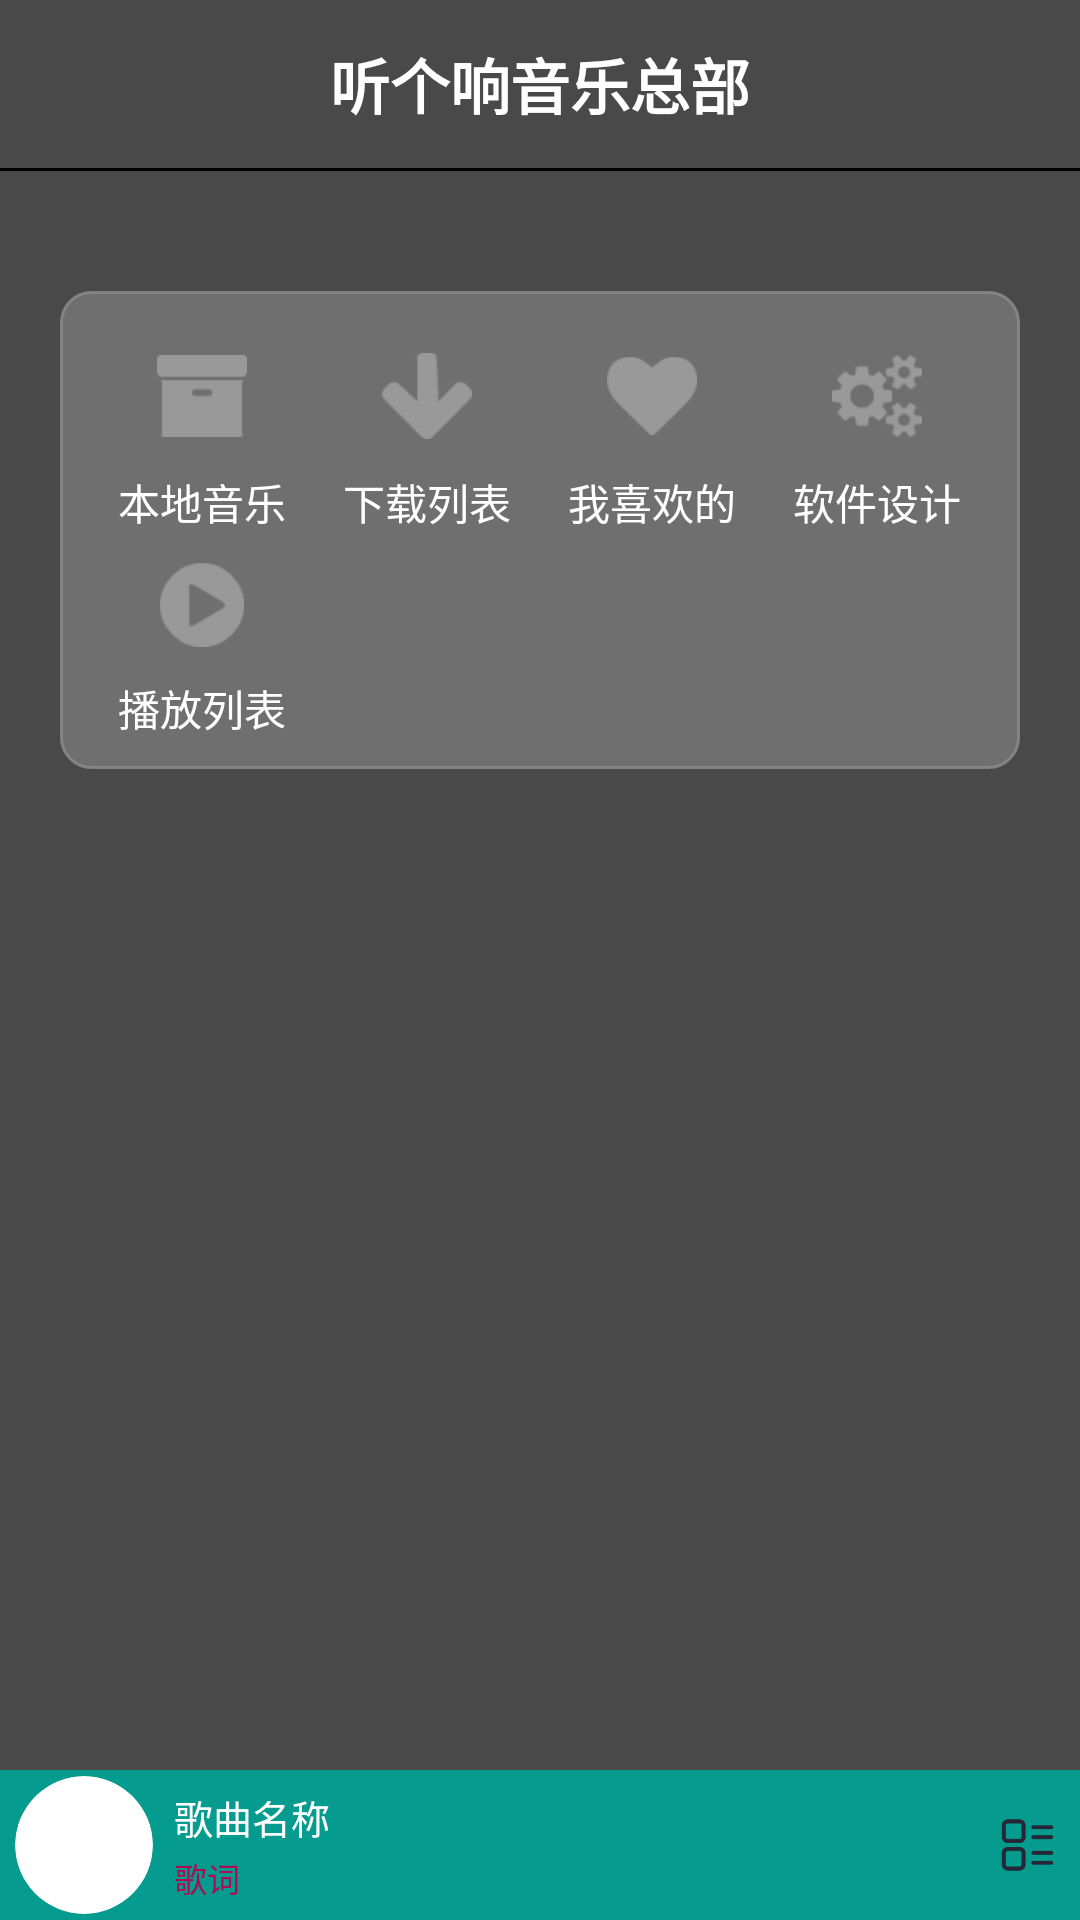

Icons on this 1080px×1920px Android screen, each with its box as (x1, y1, x2, y2):
file: (157, 355, 247, 437)
